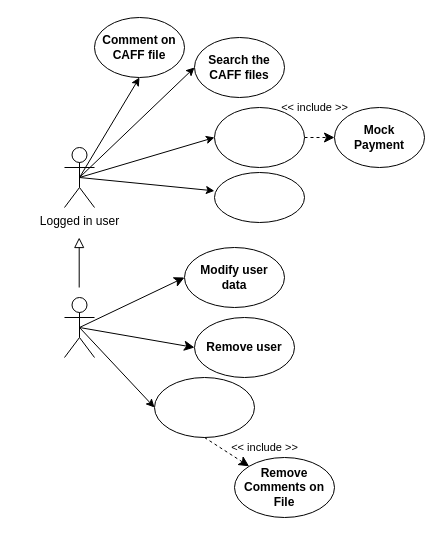
The diagram is 442 pixels wide and 535 high, and some of its shapes have lost their labels. The centre of each missing label's shape, as x and y in pixels:
"Download CAFF file" belongs at point 259,137.
"Logged in administrator" belongs at point 79,327.
"Remove CAFF file" belongs at point 204,407.
"Upload CAFF file" belongs at point 259,197.
